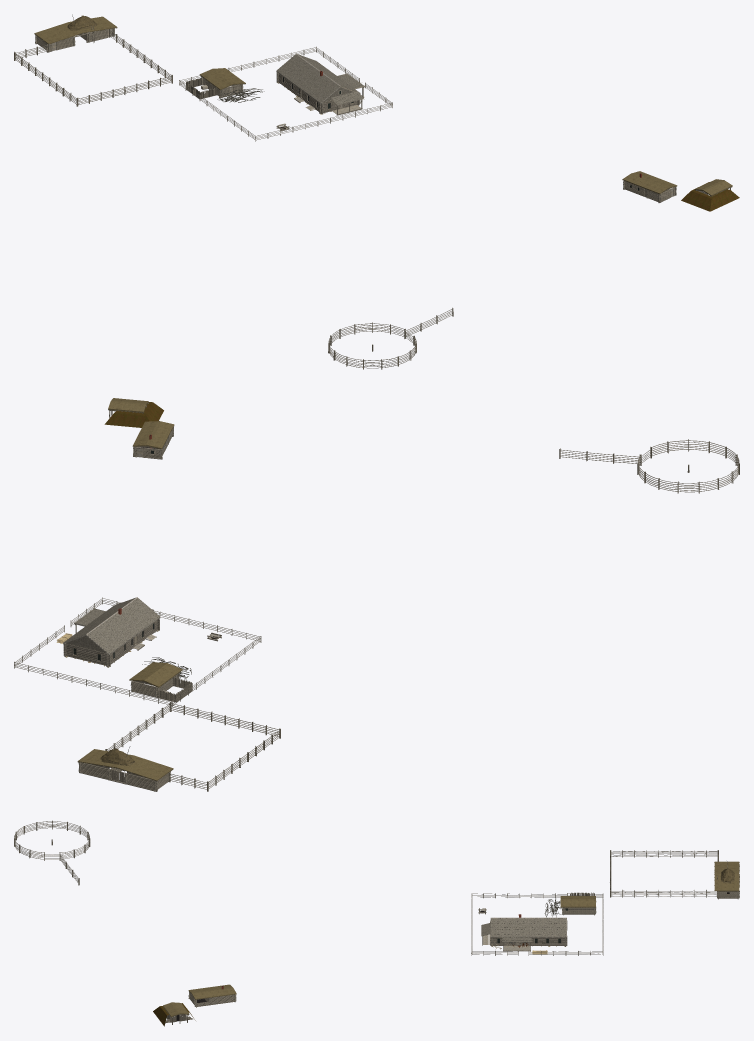
The model's file is elkhorn_site.glb.
The picture shows the model from 3 angles, top to bottom: view 1: azimuth 30°, elevation 25°; view 2: azimuth 150°, elevation 25°; view 3: azimuth 270°, elevation 25°; orthographic projection. The views are drawn at different scales.
Visible parts, largest first — view 1: fences_pole, roof_shingle, corral_pole, fences_post, barn_sod, dugout_grass, house_log, blacksmith_sod, barn_rlog, shed_sod; view 2: fences_pole, roof_shingle, corral_pole, barn_rlog, barn_sod, house_log, fences_post, dugout_grass, blacksmith_sod, shed_sod; view 3: fences_pole, roof_shingle, corral_pole, barn_sod, house_log, blacksmith_sod, fences_post, shed_sod.
Part boxes in pixels (x1,y1,x2,y2): fences_pole: [15, 30, 392, 140]; roof_shingle: [276, 54, 359, 102]; corral_pole: [328, 309, 452, 368]; fences_post: [14, 29, 392, 141]; barn_sod: [34, 16, 116, 44]; dugout_grass: [681, 182, 739, 211]; house_log: [277, 72, 363, 115]; blacksmith_sod: [622, 171, 677, 194]; barn_rlog: [35, 28, 114, 52]; shed_sod: [199, 68, 245, 89]; fences_pole: [15, 598, 279, 789]; roof_shingle: [64, 597, 159, 653]; corral_pole: [560, 440, 739, 492]; barn_rlog: [78, 762, 171, 791]; barn_sod: [77, 749, 173, 780]; house_log: [63, 617, 159, 666]; fences_post: [14, 597, 280, 791]; dugout_grass: [104, 402, 163, 427]; blacksmith_sod: [132, 421, 174, 449]; shed_sod: [129, 662, 182, 687]; fences_pole: [472, 851, 718, 954]; roof_shingle: [490, 918, 566, 936]; corral_pole: [14, 821, 89, 882]; barn_sod: [714, 861, 739, 891]; house_log: [482, 920, 567, 951]; blacksmith_sod: [188, 984, 236, 999]; fences_post: [471, 850, 718, 955]; shed_sod: [560, 896, 595, 907].
Bounding box in the file's own units: 115 × 6.61 × 179.
51 materials, 51 textured.
